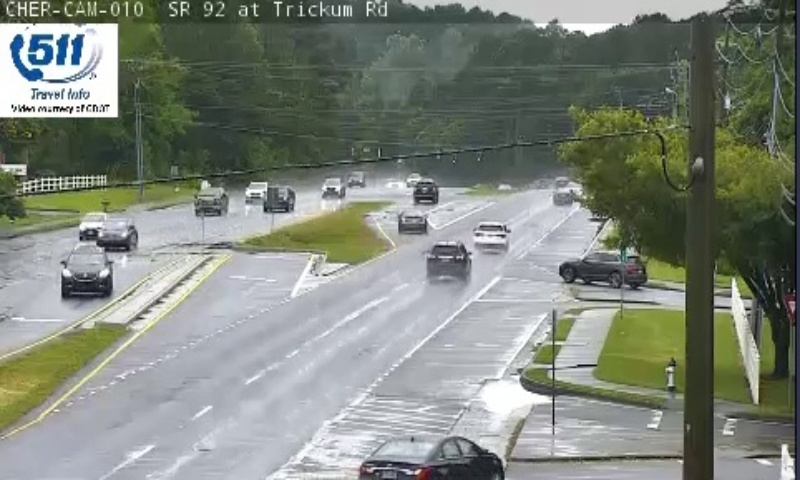car: (426, 240, 468, 274), (473, 221, 506, 250), (398, 209, 426, 232)
